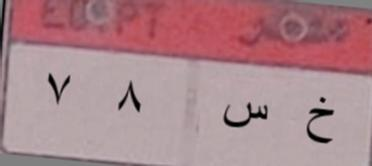7: (34, 68, 78, 117)
8: (110, 74, 148, 118)
khaa: (296, 92, 341, 156)
seen: (213, 98, 276, 136)
